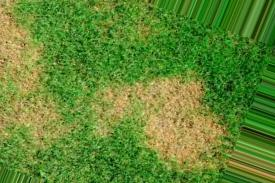patch: (4, 26, 35, 90), (152, 112, 198, 144), (107, 82, 150, 115), (154, 76, 196, 109), (9, 104, 53, 131), (88, 97, 105, 135), (160, 149, 203, 163), (57, 118, 71, 131)
